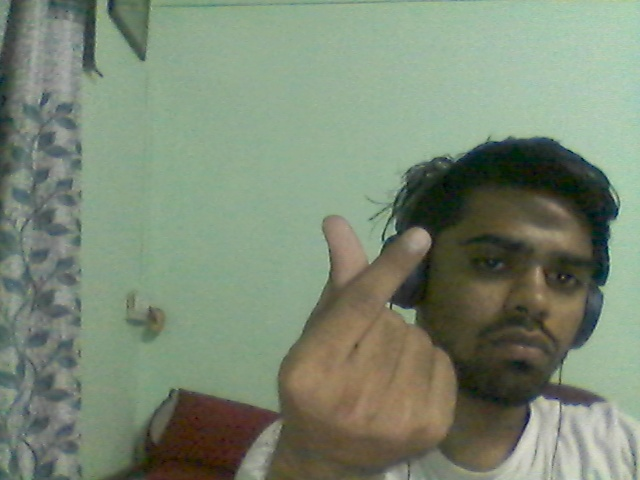I Love You: (244, 180, 490, 477)
